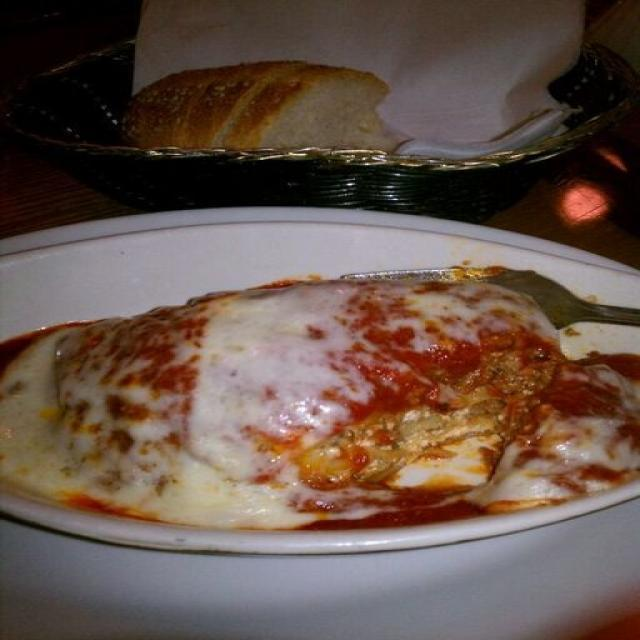Lasagna: (47, 254, 631, 533)
